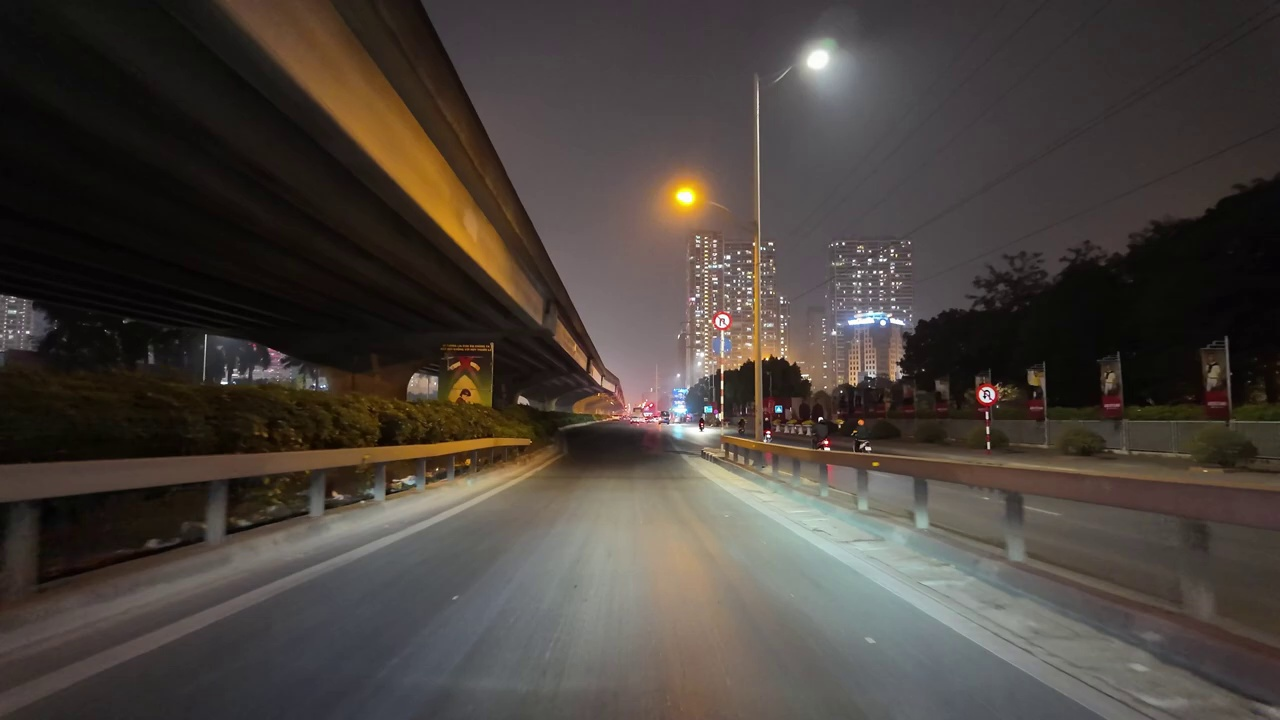acesa: (799, 41, 836, 77), (667, 180, 703, 215)
